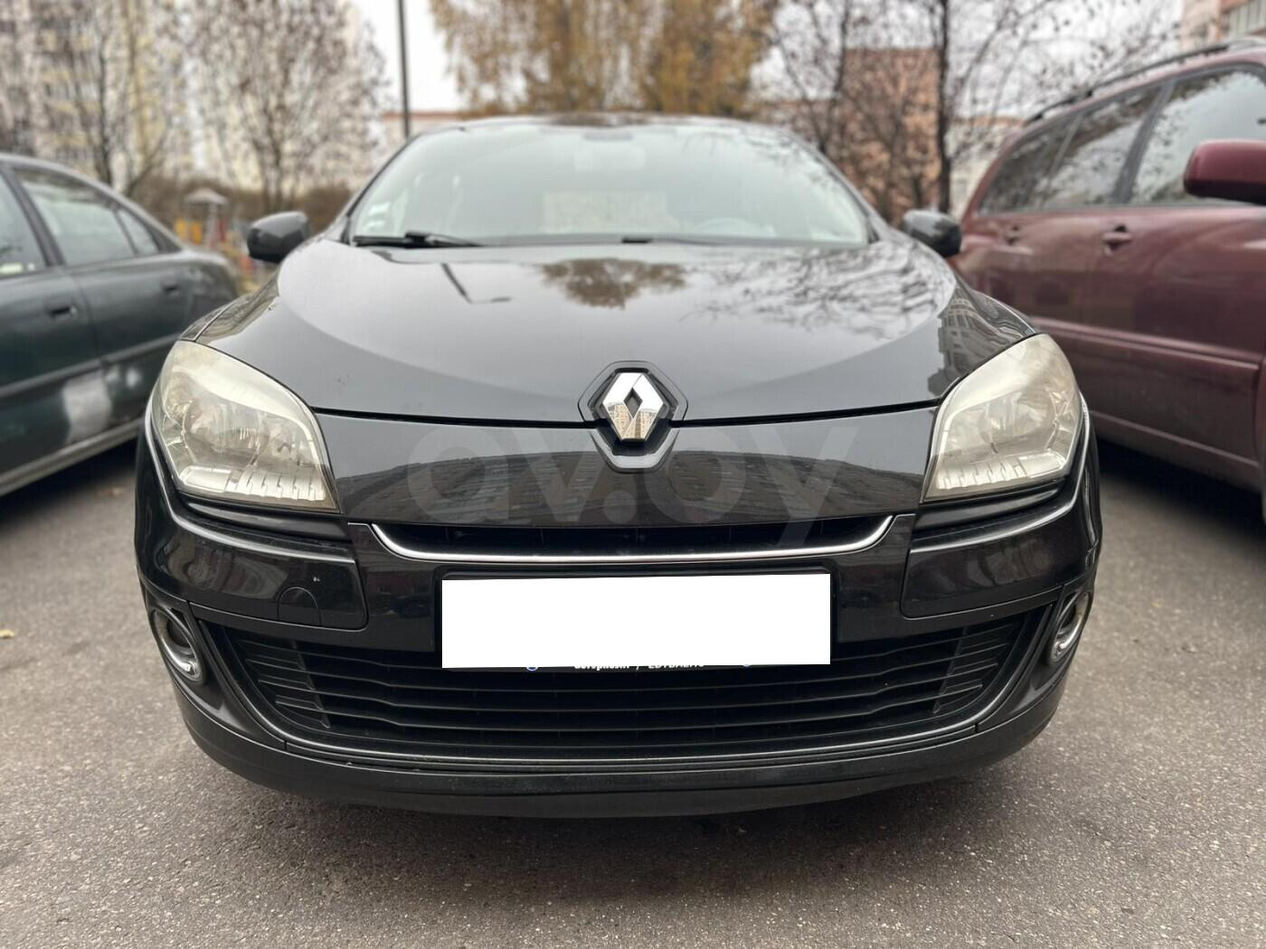Megane_2008-2014: (129, 107, 1110, 819)
